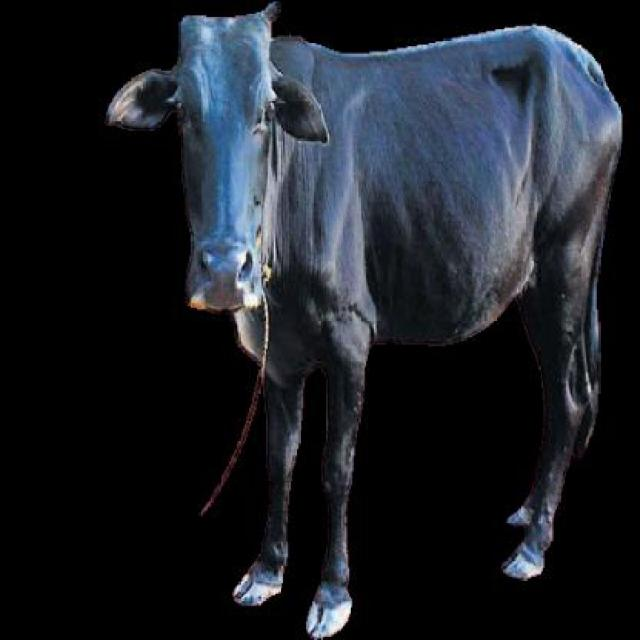Cow: (109, 0, 623, 638)
